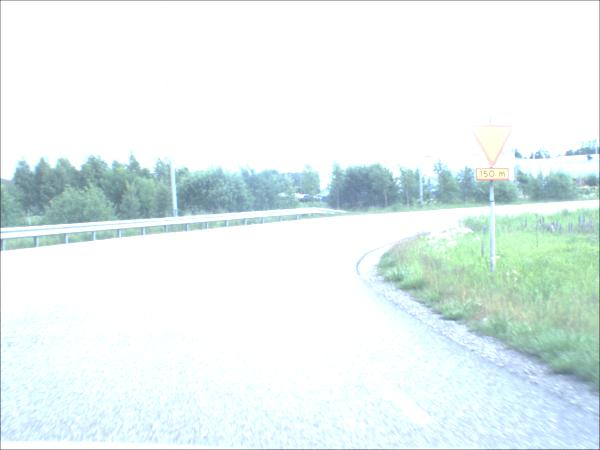GIVE_WAY: (468, 124, 517, 169)
